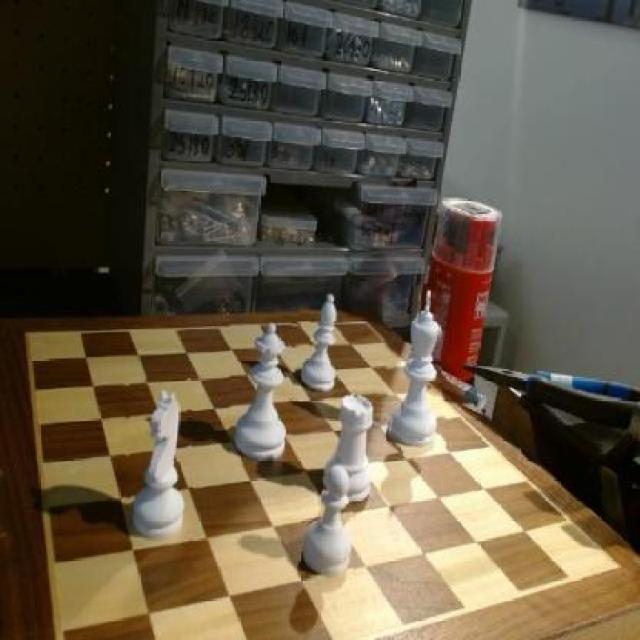black-rook: (296, 292, 342, 398)
white-bishop: (384, 285, 444, 453)
white-king: (126, 377, 194, 545)
white-knight: (302, 462, 353, 578)
white-pawn: (229, 318, 292, 466)
white-queen: (323, 388, 379, 506)
